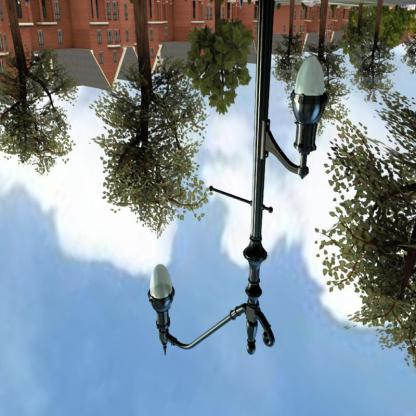Streetlights 1: (136, 0, 331, 369)
